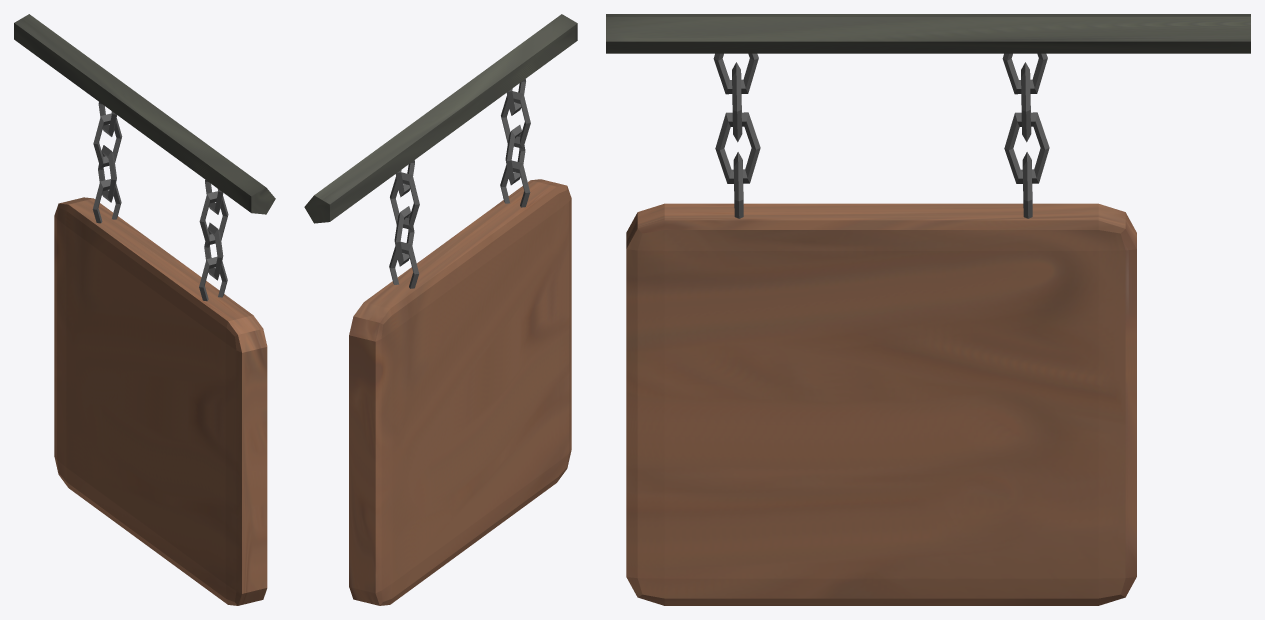
File: Hanging_Sign.fbx
The picture shows the model from 3 angles, left to right: view 1: azimuth 30°, elevation 25°; view 2: azimuth 150°, elevation 25°; view 3: azimuth 270°, elevation 25°; orthographic projection. The views are drawn at different scales.
Visible parts, largest first — view 1: Cube; view 2: Cube; view 3: Cube.
Part boxes in pixels (<box>): Cube: <box>14,14,275,605</box>; Cube: <box>304,14,577,605</box>; Cube: <box>606,14,1250,605</box>.
Bounding box in the file's own units: 0.0883 × 1.22 × 1.21.
3 materials, 2 textured.
